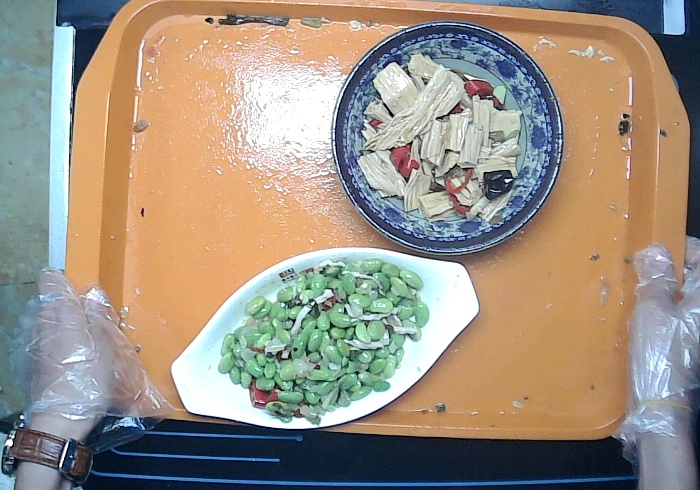ZNLD-Qing_Hua_Wan: (329, 18, 566, 257)
ZNLD-Yu_Pan: (167, 244, 481, 432)
